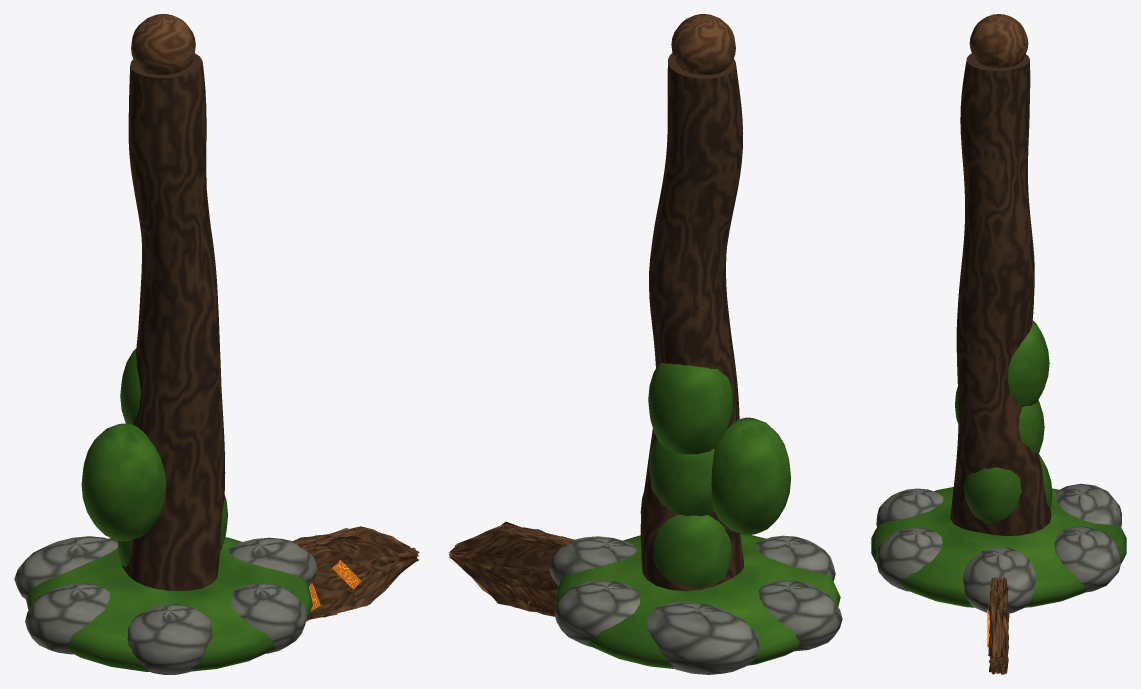
The model's file is prp_wooden_wayfinder_signpost.glb.
3 renders of one model, left to right at view 1: azimuth 30°, elevation 25°; view 2: azimuth 150°, elevation 25°; view 3: azimuth 270°, elevation 25°, orthographic. The views are drawn at different scales.
Visible parts, largest first — view 1: post, moss, stones, board_2.2, finial, board_1.8, board_1.4; view 2: moss, post, stones, board_2.2, finial, board_1.8, board_1.4; view 3: post, moss, stones, finial, board_2.2.
Boxes of the visible parts, <box> form: post: <box>122,53,225,590</box>; moss: <box>26,348,312,671</box>; stones: <box>14,536,317,674</box>; board_2.2: <box>295,526,419,621</box>; finial: <box>131,14,195,74</box>; board_1.8: <box>292,528,397,619</box>; board_1.4: <box>298,534,378,617</box>; moss: <box>554,363,840,668</box>; post: <box>640,53,743,591</box>; stones: <box>548,535,842,674</box>; board_2.2: <box>448,521,574,615</box>; finial: <box>671,14,735,74</box>; board_1.8: <box>469,527,574,616</box>; board_1.4: <box>491,530,570,614</box>; post: <box>950,53,1051,536</box>; moss: <box>871,320,1126,607</box>; stones: <box>876,483,1121,613</box>; finial: <box>969,14,1028,67</box>; board_2.2: <box>988,577,1008,674</box>.
Bounding box in the file's own units: 1.9 × 3.01 × 1.22.
6 materials, 6 textured.
